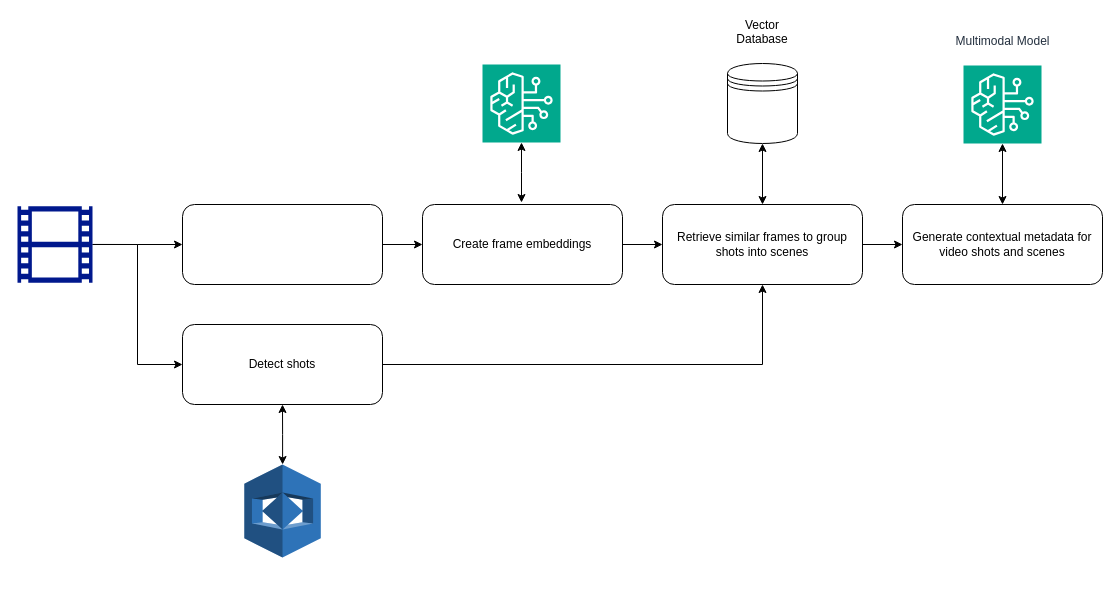
Image size: 1120x610. Some labels were removed from this diagram. Here are the shapes that lost their labels. From the top down, the box of each, then its label:
(482, 64, 560, 142): Embedding Model
(182, 204, 382, 284): Sample frames
(243, 464, 321, 558): Amazon Rekognition Video
